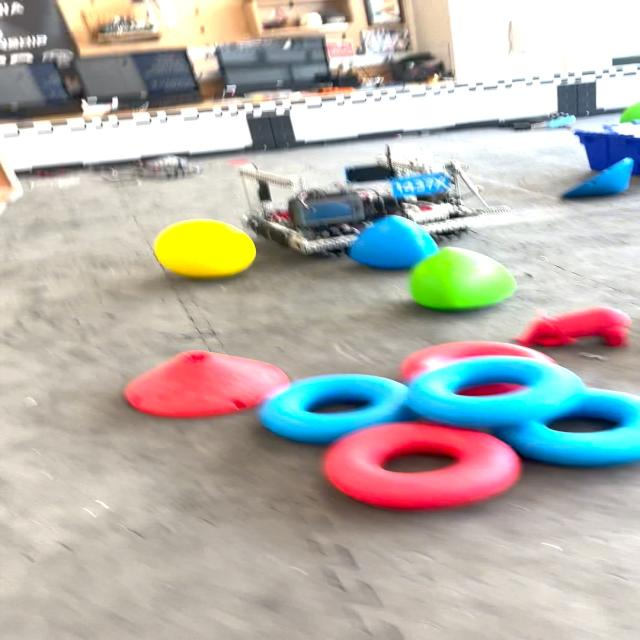Blue-Ring: (407, 356, 584, 428), (496, 388, 640, 466), (260, 374, 413, 444)
Red-Ring: (322, 422, 520, 510), (400, 341, 556, 381)
